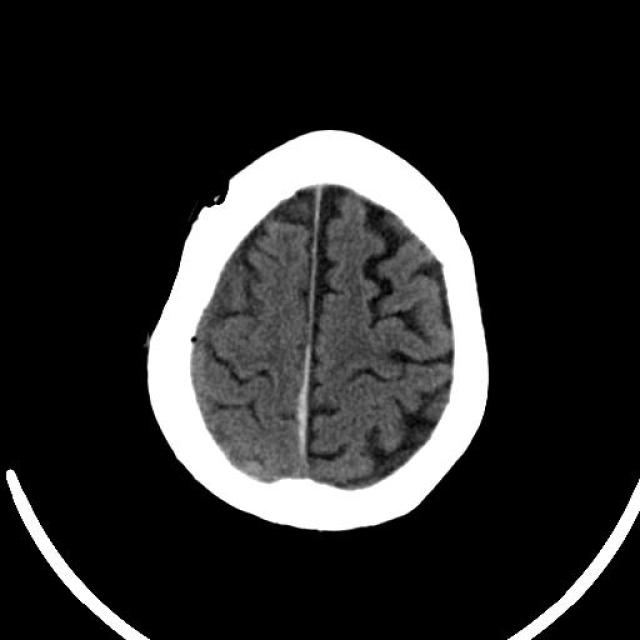Subdural: (256, 336, 369, 505)
